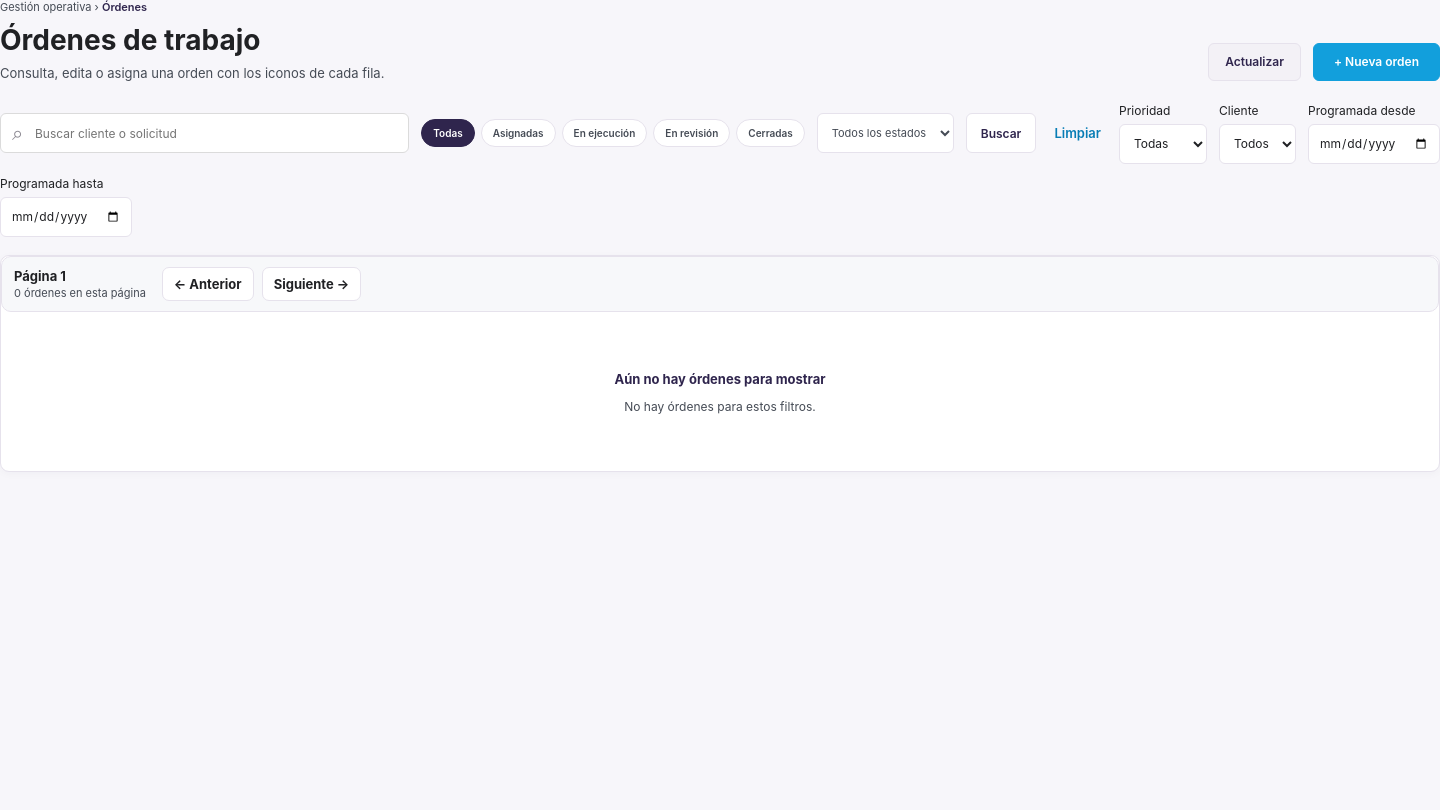
Test: Cliente y ubicaciones del formulario de órdenes › no permite registrar una orden cuando no hay ubicaciones disponibles
The width and height of the screenshot is (1440, 810).
Expected: the text "No hay órdenes para estos filtros." is shown, [614, 399, 826, 414]
Click the button "+ Nueva orden". click: (1376, 62)
box: [1313, 43, 1439, 81]
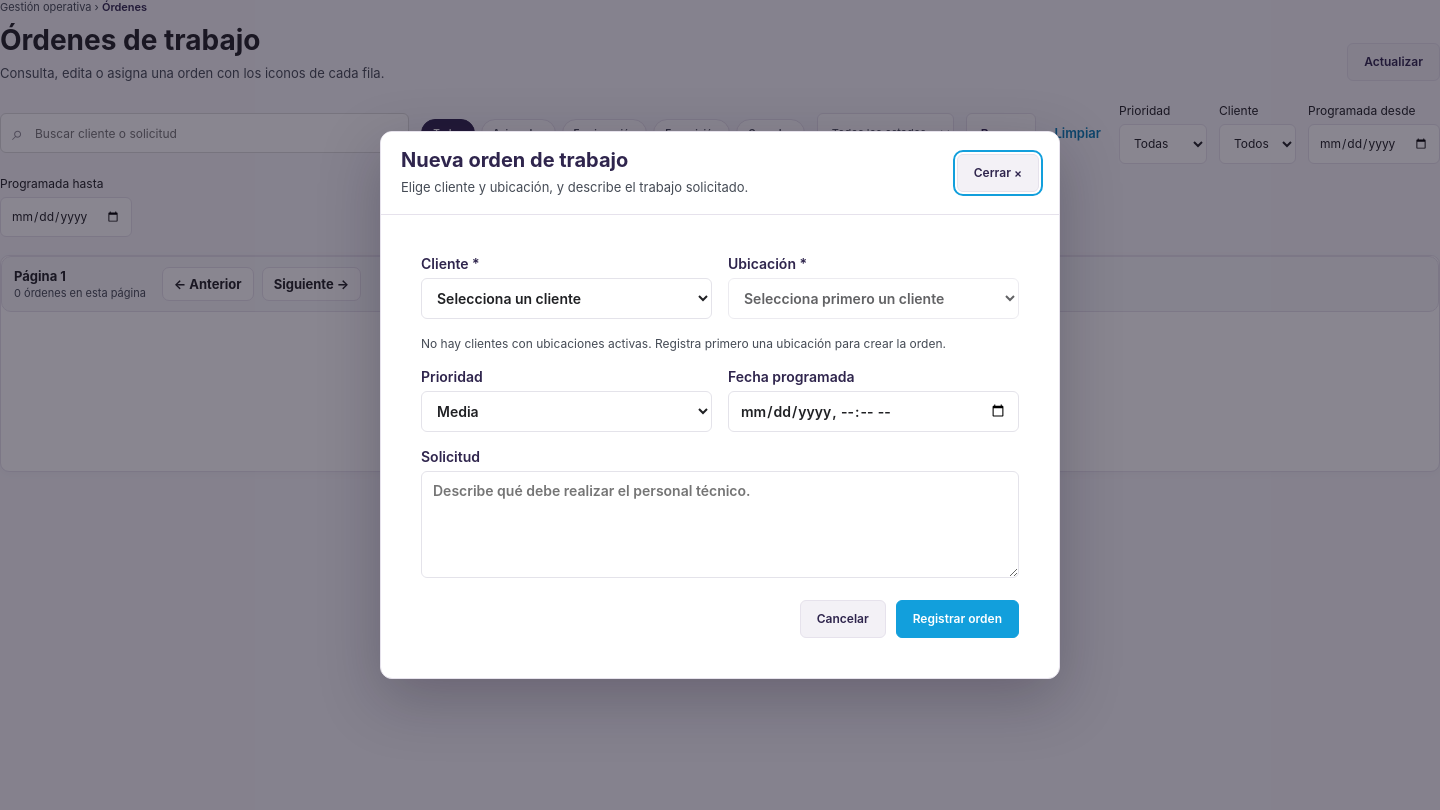
Result: the text "No hay clientes con ubicaciones activas" is shown at [421, 336, 946, 350]
Result: the dropdown labelled "Ubicación" is disabled at [728, 278, 1019, 318]
